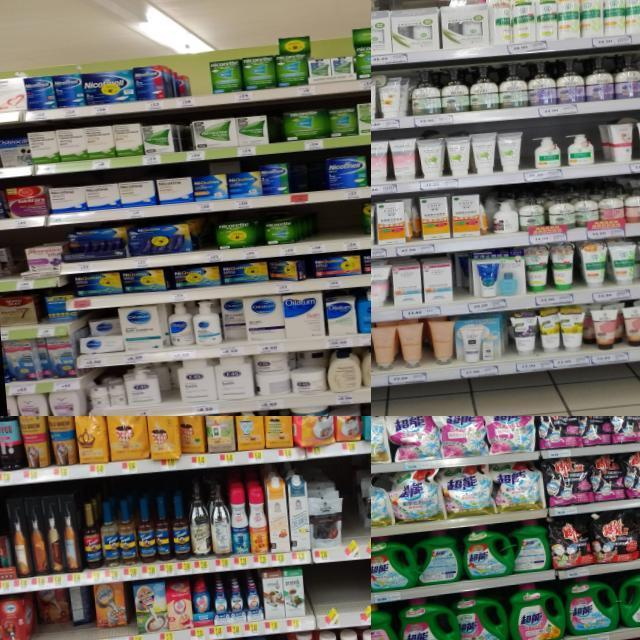empty: (304, 562, 349, 629), (340, 464, 364, 560), (347, 557, 371, 625), (336, 203, 364, 251), (312, 202, 338, 252), (188, 63, 210, 106)
